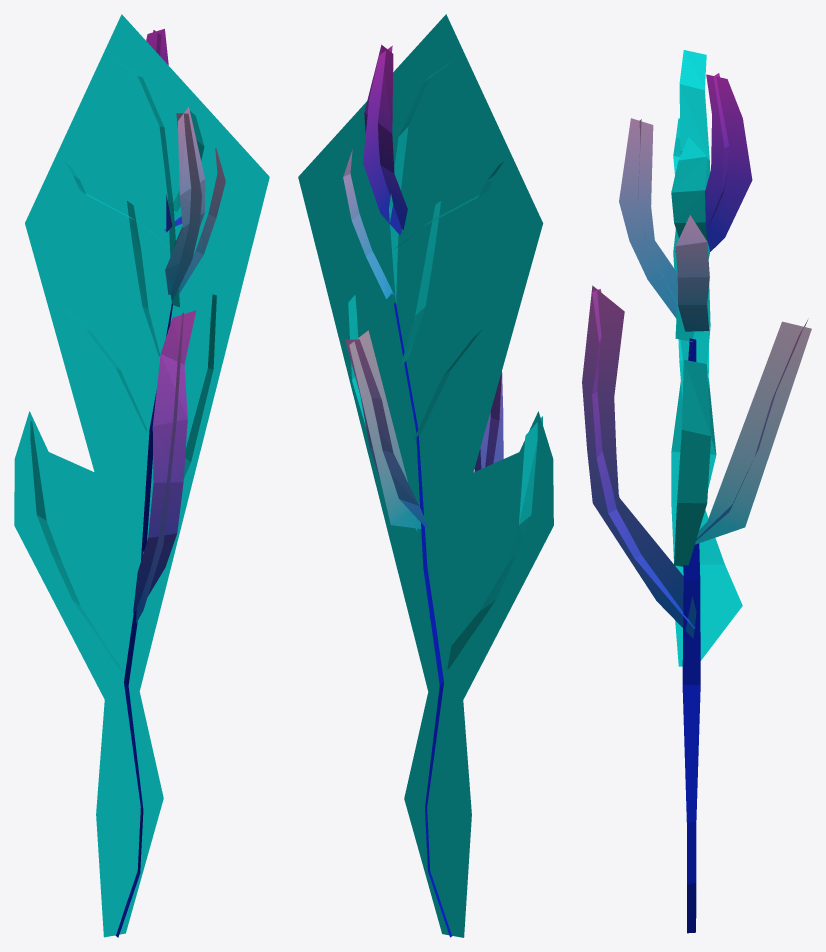
The model's file is Nordic_Coastal_Groundcover_vlqkdeaja_Mid_vlqkdeaja_VarD_LOD0.fbx.
The picture shows the model from 3 angles, left to right: view 1: azimuth 30°, elevation 25°; view 2: azimuth 150°, elevation 25°; view 3: azimuth 270°, elevation 25°; orthographic projection.
Visible parts, largest first — view 1: _uzzd_VarD_LOD1; view 2: _uzzd_VarD_LOD1; view 3: _uzzd_VarD_LOD1.
Part boxes in pixels (<box>): _uzzd_VarD_LOD1: <box>14,14,269,937</box>; _uzzd_VarD_LOD1: <box>298,14,553,937</box>; _uzzd_VarD_LOD1: <box>582,50,811,933</box>.
Size of the model in its own units: 13.96 by 48.06 by 10.86.
